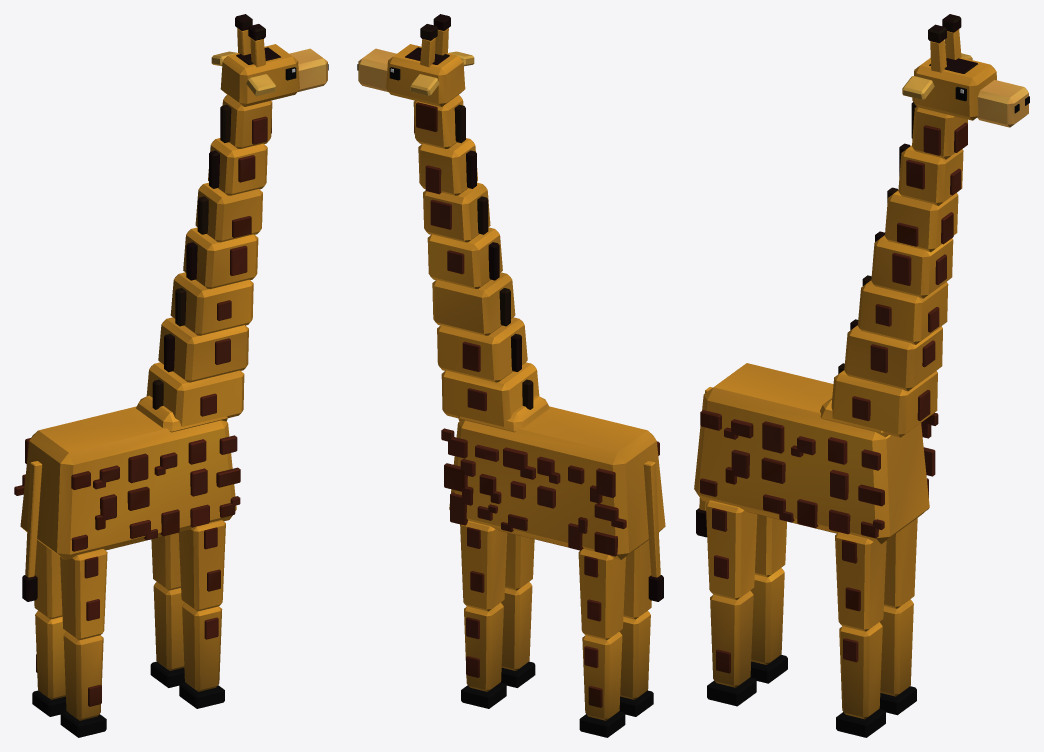
File: giraffe.glb
3 renders of one model, left to right at view 1: azimuth 30°, elevation 25°; view 2: azimuth 150°, elevation 25°; view 3: azimuth 330°, elevation 25°, orthographic. The views are drawn at different scales.
Parts seen in each view (by area): view 1: giraffe; view 2: giraffe; view 3: giraffe.
Boxes of the visible parts, x1,y1,x2,y2 form: giraffe: [14, 14, 328, 737]; giraffe: [357, 14, 665, 737]; giraffe: [694, 14, 1029, 737].
Size of the model in its own units: 3.62 by 7.58 by 1.03.
